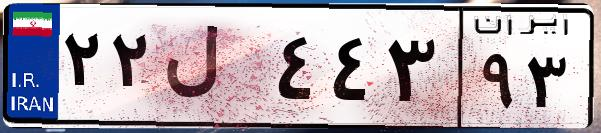2: (57, 26, 110, 100), (110, 28, 158, 98)
3: (385, 28, 445, 110), (525, 38, 570, 115)
4: (270, 28, 330, 110), (330, 28, 385, 110)
9: (475, 38, 525, 113)
ل: (158, 20, 270, 120)
